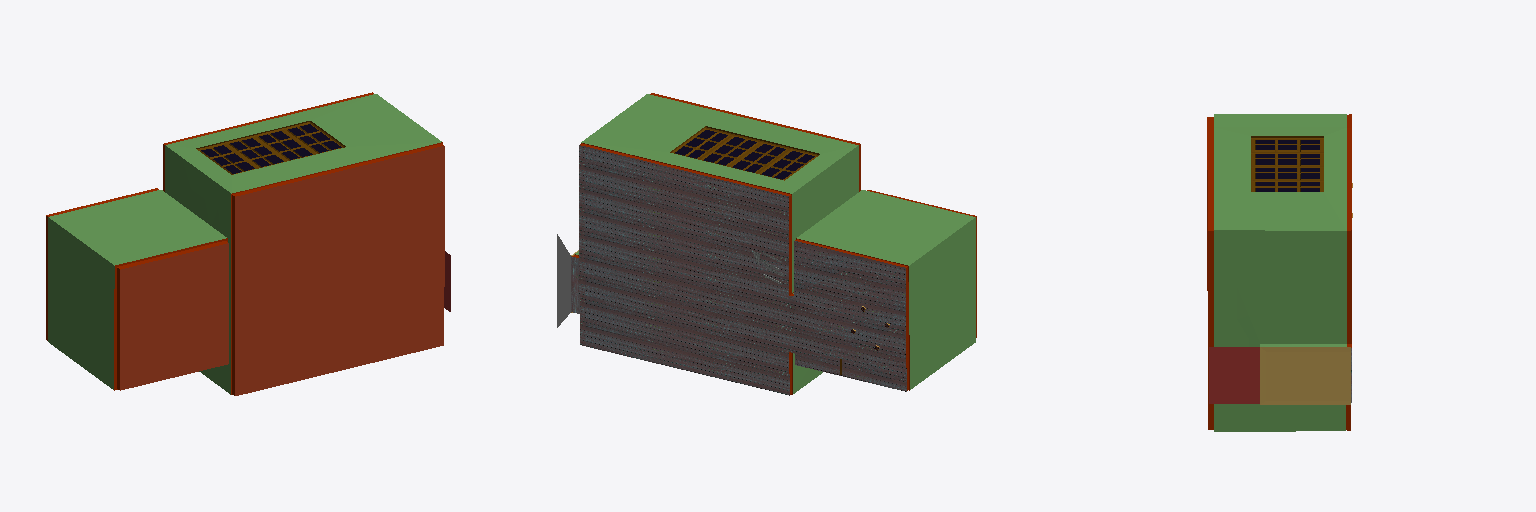
3 views of the same model, side by side, from view 1: azimuth 30°, elevation 25°; view 2: azimuth 150°, elevation 25°; view 3: azimuth 270°, elevation 25° (orthographic).
Parts seen in each view (by area): view 1: Huone_Cube.002_Katto, Huone_Cube.002_Sein�t, Huone_Cube.002_Listat, Huone_Cube.002_Material.022, Huone_Cube.002_Material.030; view 2: Huone_Cube.002_Lattia_P[number redacted].JPG, Huone_Cube.002_Sein�t, Huone_Cube.002_Listat, Huone_Cube.002_Material.022, Huone_Cube.002_Material.030, Huone_Cube.002_Lattia; view 3: Huone_Cube.002_Sein�t, PAAovi_Cube.004_Material.008, Huone_Cube.002_Listat, Huone_Cube.002_listat, Huone_Cube.002_Material.022, Huone_Cube.002_Material.030.
Part boxes in pixels (left/top/right/bottom): Huone_Cube.002_Katto: left=120, top=146, right=444, bottom=395; Huone_Cube.002_Sein�t: left=48, top=94, right=441, bottom=394; Huone_Cube.002_Listat: left=46, top=92, right=443, bottom=395; Huone_Cube.002_Material.022: left=201, top=124, right=341, bottom=173; Huone_Cube.002_Material.030: left=196, top=121, right=345, bottom=174; Huone_Cube.002_Lattia_P[number redacted].JPG: left=571, top=145, right=906, bottom=395; Huone_Cube.002_Sein�t: left=575, top=94, right=975, bottom=393; Huone_Cube.002_Listat: left=572, top=93, right=976, bottom=394; Huone_Cube.002_Material.022: left=675, top=130, right=814, bottom=179; Huone_Cube.002_Material.030: left=670, top=126, right=819, bottom=180; Huone_Cube.002_Lattia: left=557, top=234, right=570, bottom=327; Huone_Cube.002_Sein�t: left=1214, top=114, right=1346, bottom=431; PAAovi_Cube.004_Material.008: left=1260, top=347, right=1350, bottom=404; Huone_Cube.002_Listat: left=1207, top=114, right=1351, bottom=430; Huone_Cube.002_listat: left=1209, top=347, right=1259, bottom=403; Huone_Cube.002_Material.022: left=1256, top=140, right=1319, bottom=191; Huone_Cube.002_Material.030: left=1251, top=136, right=1323, bottom=191.
Bounding box in the file's own units: 566 × 312 × 205.
Materials: 37 (6 with a texture image).